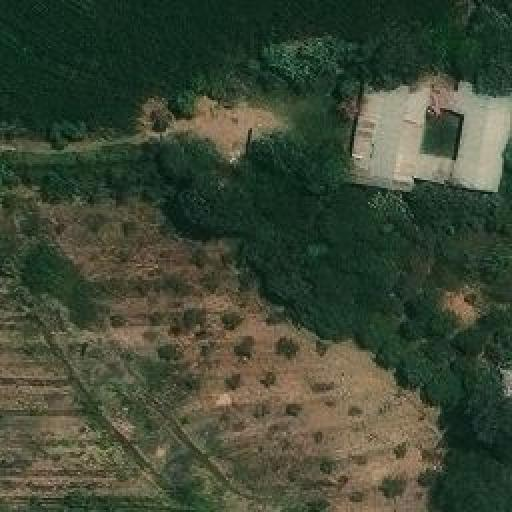manzanas: (340, 56, 510, 195)
